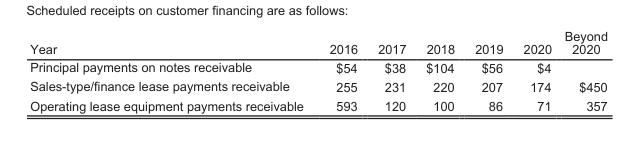table: (29, 28, 607, 113)
table column: (29, 28, 315, 113), (315, 28, 367, 113), (557, 28, 607, 113), (415, 28, 464, 113), (367, 28, 415, 113), (464, 28, 512, 113), (512, 28, 557, 113)
table column header: (29, 28, 607, 57)
table row: (29, 28, 607, 57), (29, 57, 607, 76), (29, 76, 607, 95), (29, 95, 607, 113)
